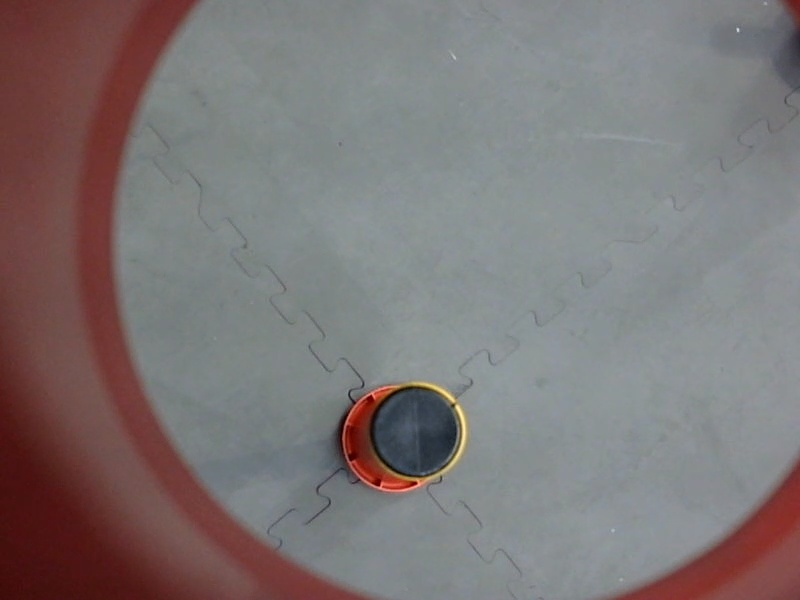tip: (362, 372, 481, 489)
